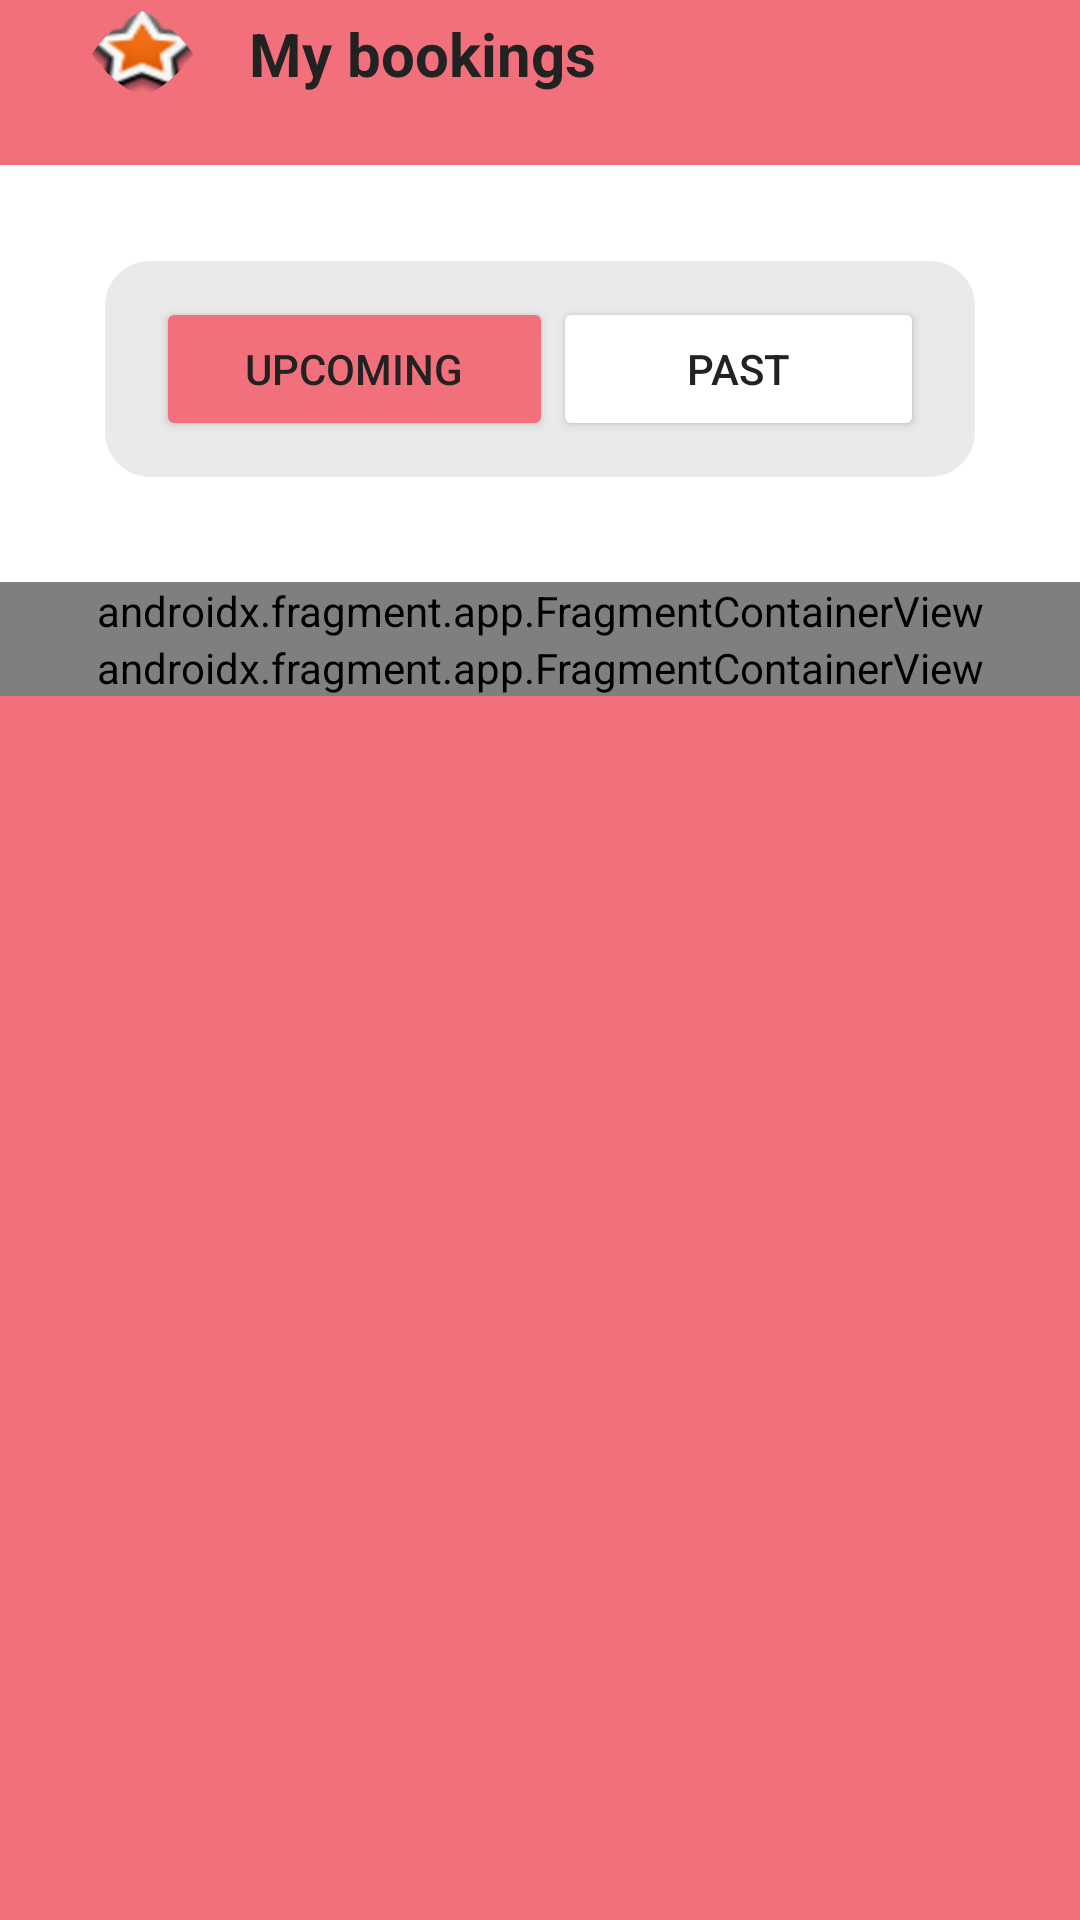

Where to tap for icons on this 1080*1920 app screen, as (x,y):
star on: (142,51)
